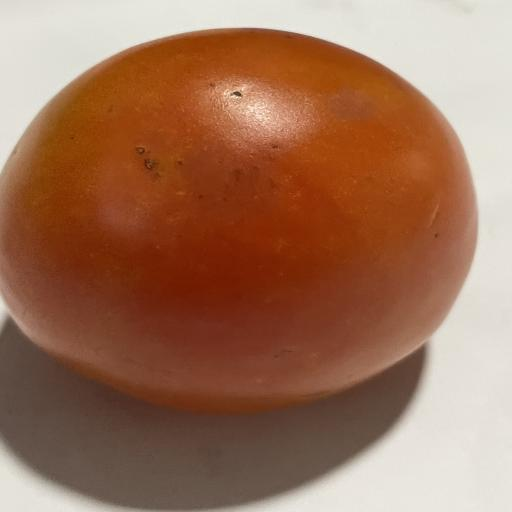unripe: (0, 28, 477, 412)
